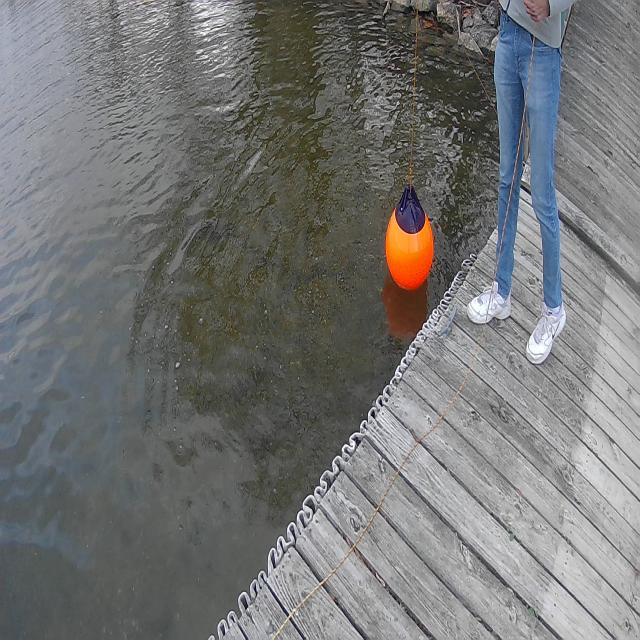Buoy: (379, 174, 437, 296)
